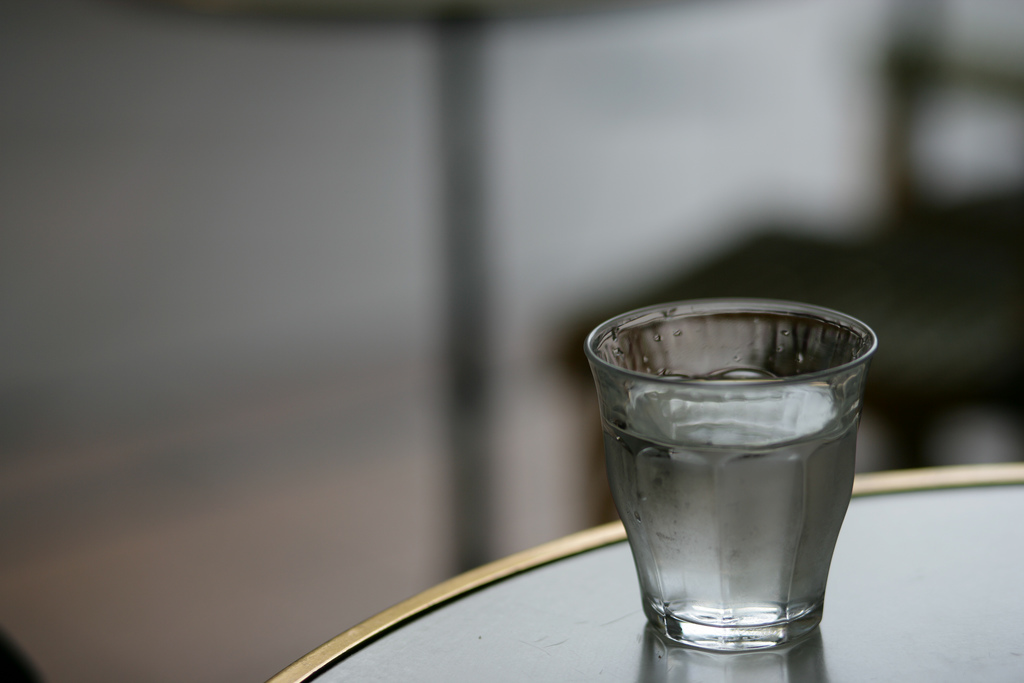glass of water: (586, 297, 858, 659)
